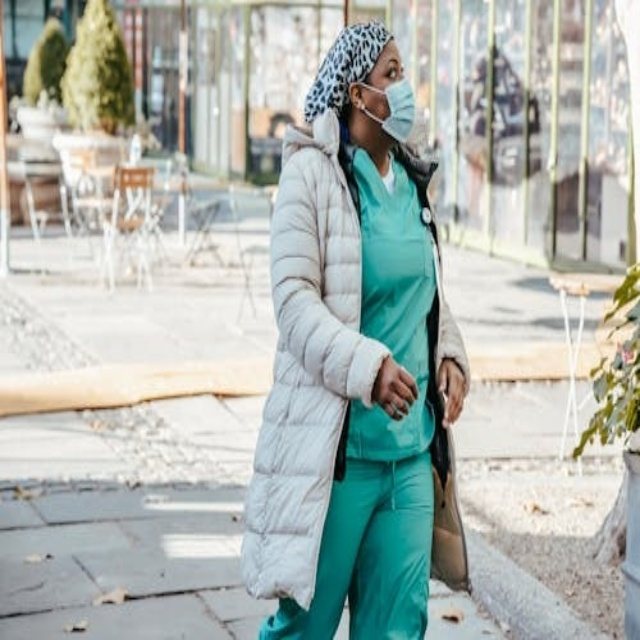Mascara: (362, 78, 416, 145)
Sin_gafas: (372, 54, 407, 81)
Sin_guantes: (374, 352, 419, 423), (437, 358, 468, 422)
